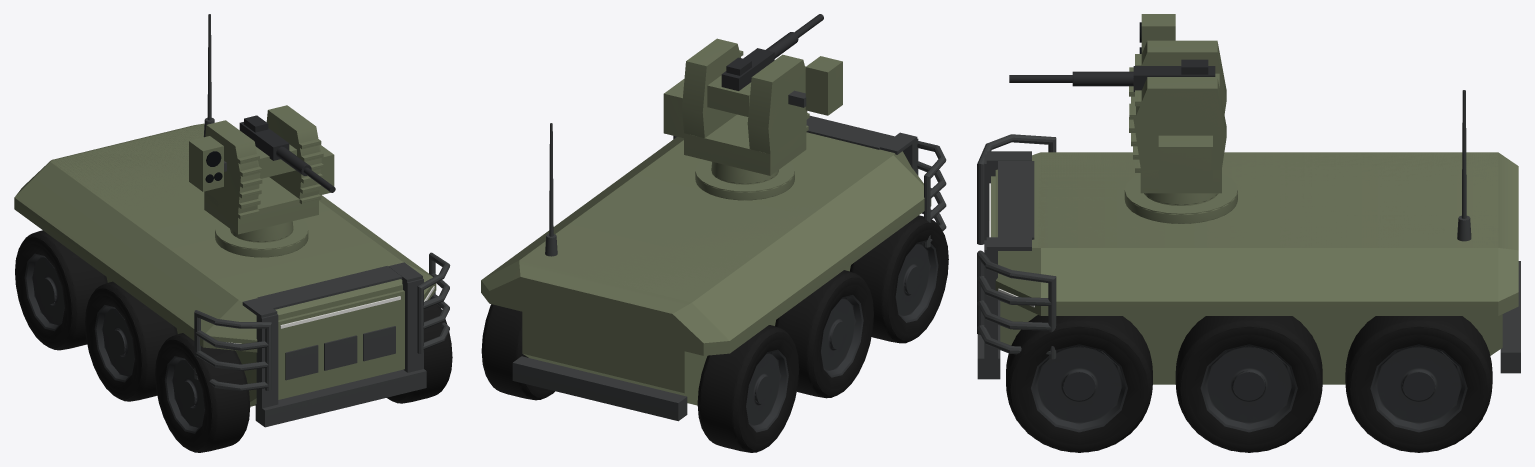
Rendered from ugv.glb.
3 views of the same model, side by side, from view 1: azimuth 30°, elevation 25°; view 2: azimuth 150°, elevation 25°; view 3: azimuth 270°, elevation 25° (orthographic). The views are drawn at different scales.
Visible parts, largest first — view 1: hull (×2), turret (×3), wheel_FR (×3), wheel_RR (×3), wheel_MR (×3), cradle (×2), gimbal (×2), wheel_FL, antenna; view 2: hull (×2), turret (×2), wheel_RR (×3), wheel_FR (×3), wheel_MR (×3), cradle (×2), wheel_RL, gimbal (×2), antenna; view 3: hull (×2), turret (×2), wheel_ML (×3), wheel_RL (×3), wheel_FL (×3), cradle (×2), gimbal (×2), antenna.
Boxes of the visible parts, bbox=[...] form: hull (×2): bbox=[14, 123, 450, 427]; turret (×3): bbox=[204, 105, 334, 257]; wheel_FR (×3): bbox=[155, 333, 250, 452]; wheel_RR (×3): bbox=[15, 230, 107, 350]; wheel_MR (×3): bbox=[85, 281, 177, 401]; cradle (×2): bbox=[224, 115, 335, 192]; gimbal (×2): bbox=[189, 136, 223, 191]; wheel_FL: bbox=[387, 298, 451, 403]; antenna: bbox=[203, 14, 214, 137]; hull (×2): bbox=[481, 115, 946, 421]; turret (×2): bbox=[663, 38, 809, 200]; wheel_RR (×3): bbox=[697, 325, 799, 452]; wheel_FR (×3): bbox=[850, 215, 948, 343]; wheel_MR (×3): bbox=[775, 270, 873, 398]; cradle (×2): bbox=[707, 14, 823, 116]; wheel_RL: bbox=[482, 304, 554, 400]; gimbal (×2): bbox=[805, 56, 842, 115]; antenna: bbox=[545, 123, 557, 256]; hull (×2): bbox=[977, 134, 1520, 384]; turret (×2): bbox=[1124, 40, 1237, 223]; wheel_ML (×3): bbox=[1175, 316, 1322, 452]; wheel_RL (×3): bbox=[1345, 316, 1492, 452]; wheel_FL (×3): bbox=[1006, 315, 1152, 452]; cradle (×2): bbox=[1009, 59, 1219, 91]; gimbal (×2): bbox=[1139, 14, 1175, 53]; antenna: bbox=[1457, 90, 1471, 241].
Size of the model in its own units: 1.5 by 1.62 by 2.4.
